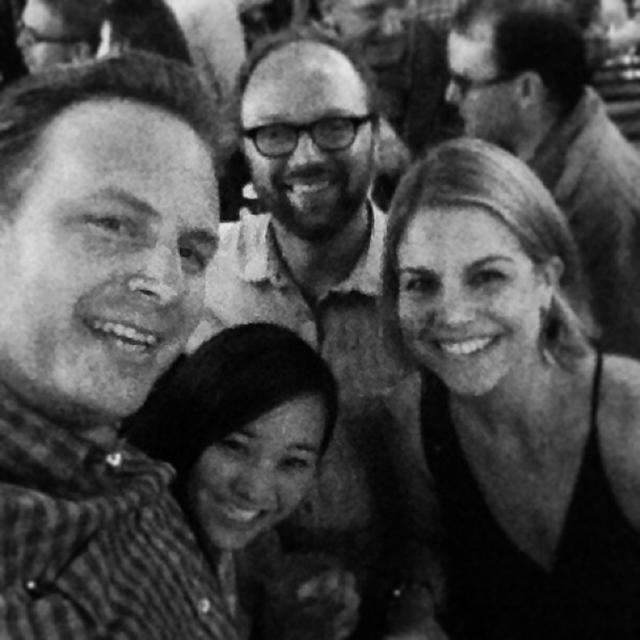Glasses: (231, 112, 379, 158)
